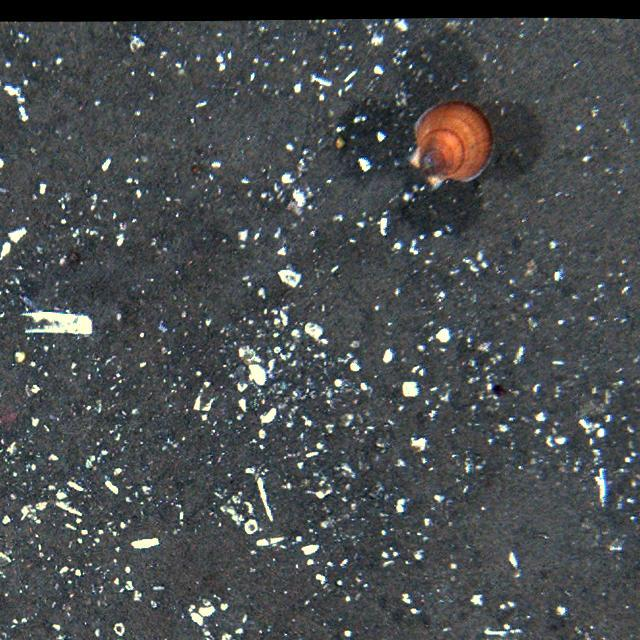scallop: (408, 105, 496, 189)
